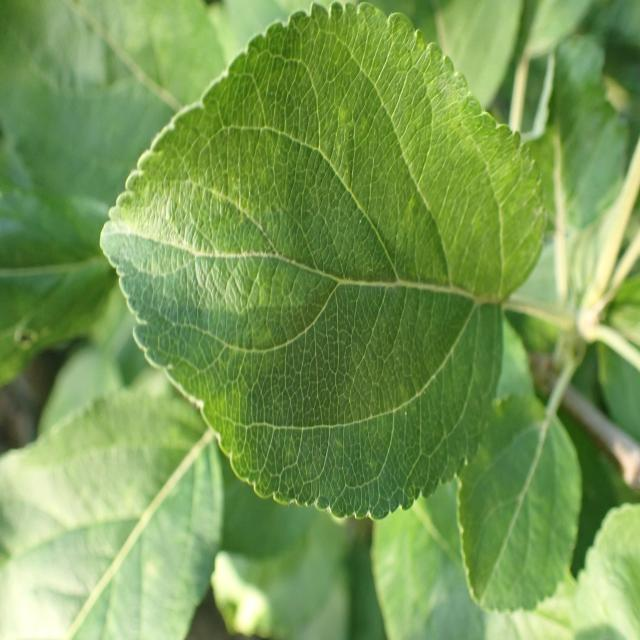healthy: (100, 2, 546, 519), (0, 380, 226, 640), (456, 393, 583, 614), (570, 502, 640, 639)
